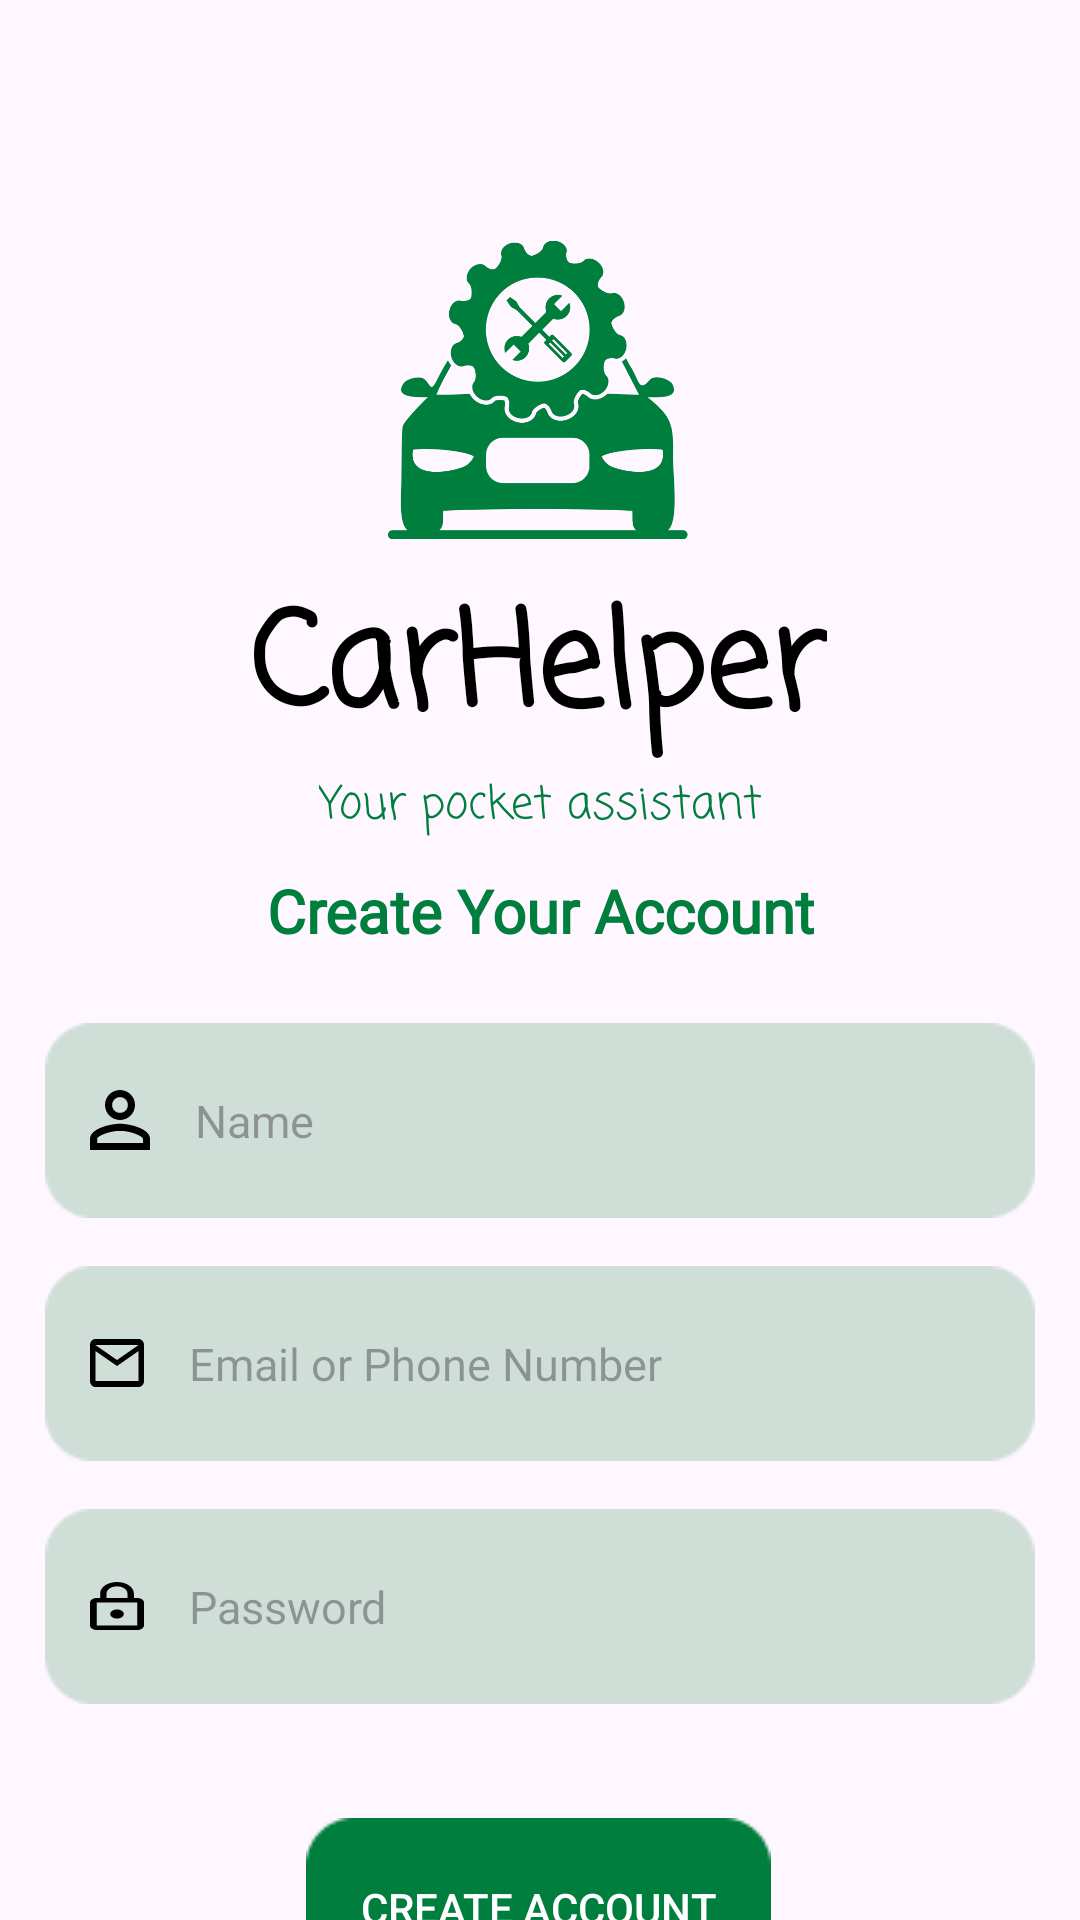

Screen size 1080 x 1920. Icon name, then its box in pixels as (x1, y1, x2, y2):
car: (388, 241, 688, 539)
